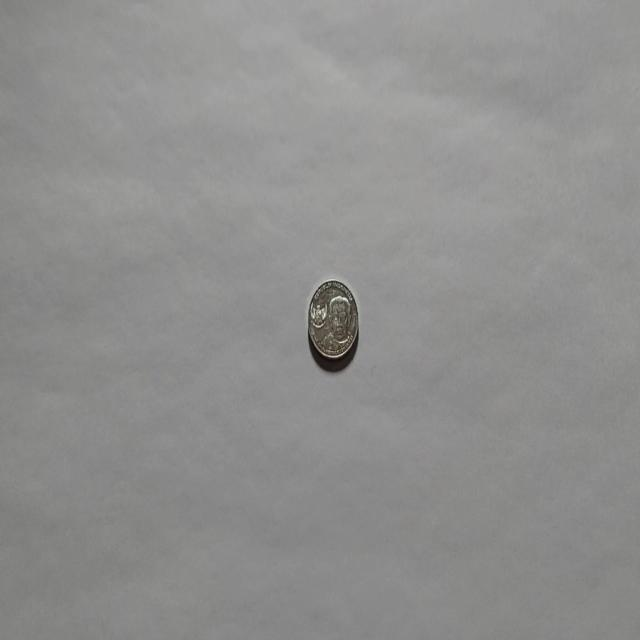seratus rupiah: (306, 278, 359, 366)
